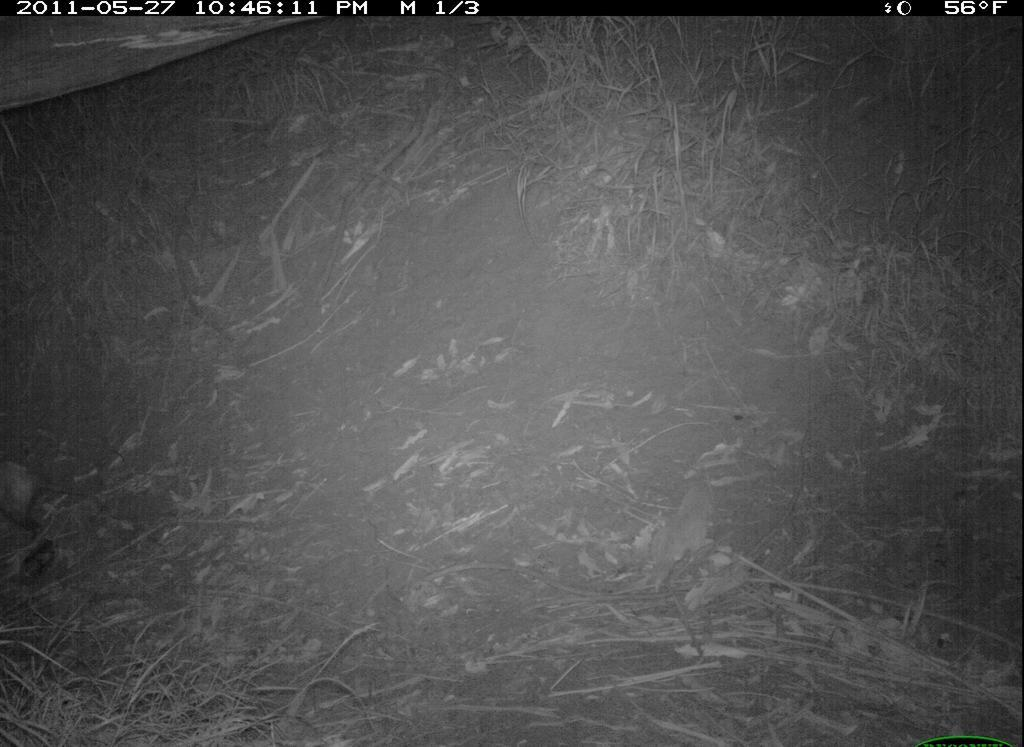opossum: (1, 432, 122, 557)
